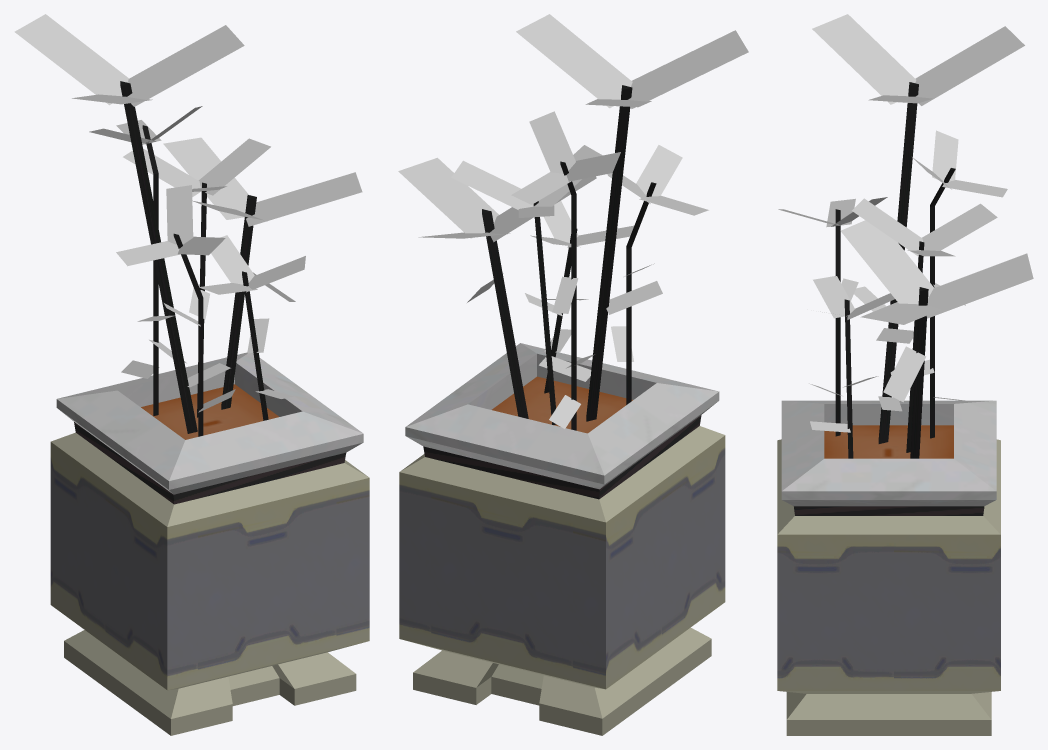
File: mdlPlantPot2.fbx
The picture shows the model from 3 angles, left to right: view 1: azimuth 30°, elevation 25°; view 2: azimuth 150°, elevation 25°; view 3: azimuth 270°, elevation 25°; orthographic projection. The views are drawn at different scales.
Parts seen in each view (by area): view 1: Pot, Leaves; view 2: Pot, Leaves; view 3: Pot, Leaves.
Part boxes in pixels (bbox=[...]): Pot: bbox=[50, 81, 369, 735]; Leaves: bbox=[14, 14, 362, 412]; Pot: bbox=[399, 85, 725, 735]; Leaves: bbox=[398, 14, 748, 428]; Pot: bbox=[777, 82, 1000, 735]; Leaves: bbox=[778, 14, 1033, 432].
Bounding box in the file's own units: 2.58 × 4.96 × 1.91.
